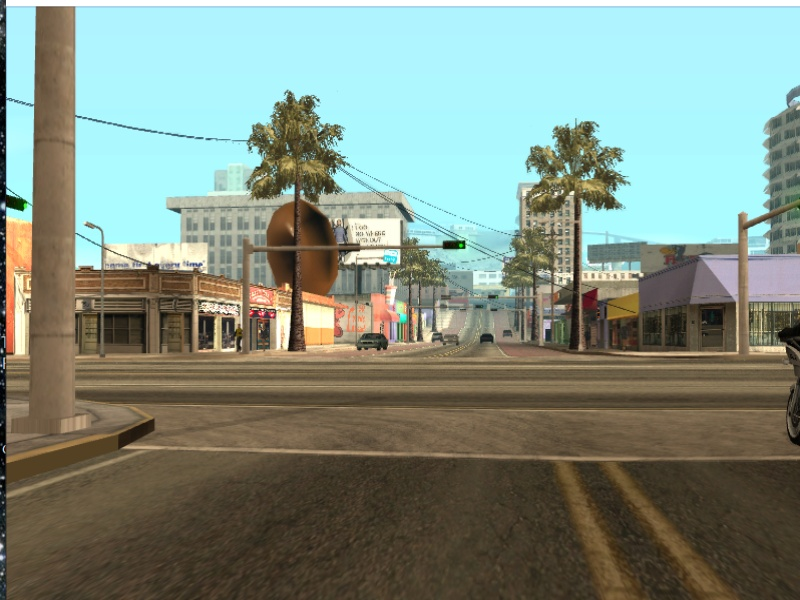pole: (27, 10, 91, 431), (735, 220, 755, 361), (238, 240, 254, 356), (577, 215, 589, 356), (97, 231, 109, 366), (536, 295, 547, 350)
tree: (290, 192, 308, 361)
vehicle: (356, 331, 387, 352), (478, 333, 495, 346), (444, 334, 460, 345), (429, 331, 444, 342), (502, 327, 513, 338)
